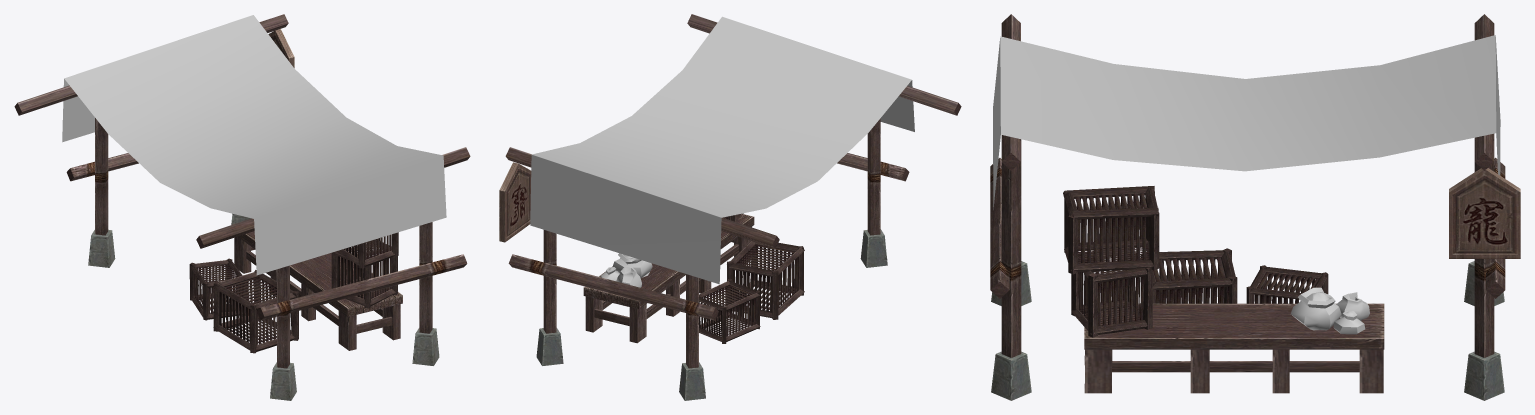
The model's file is spice_tent.obj.
3 renders of one model, left to right at view 1: azimuth 30°, elevation 25°; view 2: azimuth 150°, elevation 25°; view 3: azimuth 270°, elevation 25°, orthographic. The views are drawn at different scales.
Visible parts, largest first — view 1: spice_tent; view 2: spice_tent; view 3: spice_tent.
Part boxes in pixels (left/top/right/bottom): spice_tent: left=14, top=14, right=470, bottom=400; spice_tent: left=499, top=14, right=961, bottom=400; spice_tent: left=990, top=14, right=1520, bottom=400.
Size of the model in its own units: 2.26 by 1.67 by 2.98.
Materials: 2 (1 with a texture image).
